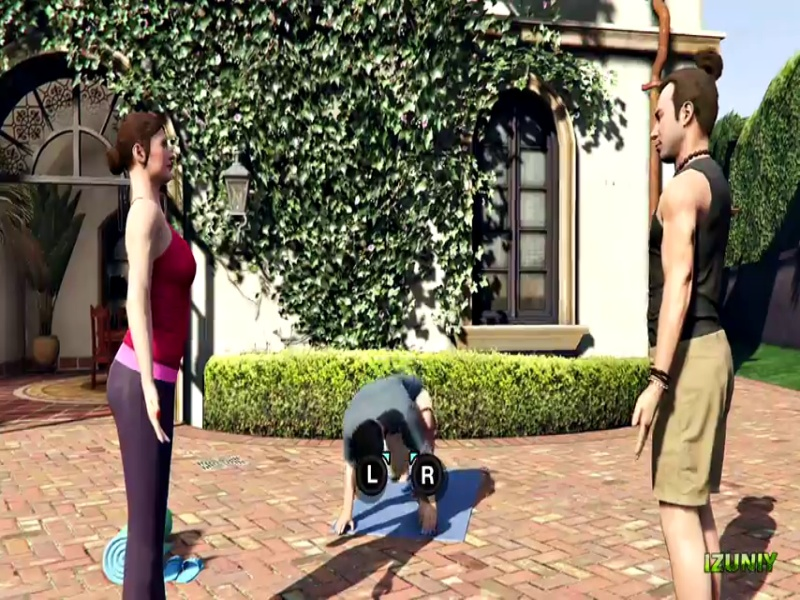licenseplate: (461, 337, 537, 368)
